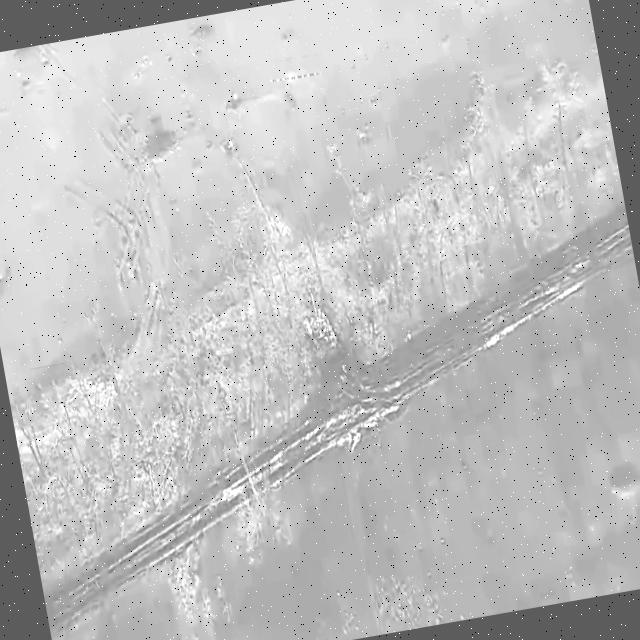MBT: (298, 287, 344, 371)
